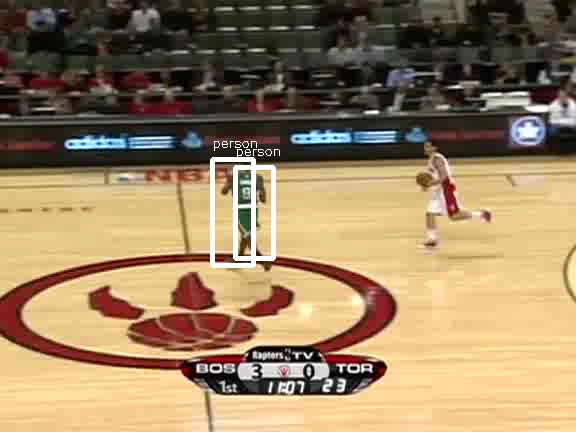person: (230, 163, 264, 244), (229, 163, 263, 244), (231, 163, 265, 244), (230, 162, 264, 243), (230, 164, 264, 245)
target_negative: (356, 147, 543, 290), (334, 292, 549, 376), (286, 249, 399, 372), (426, 324, 519, 422), (526, 187, 540, 333), (493, 151, 514, 216)
